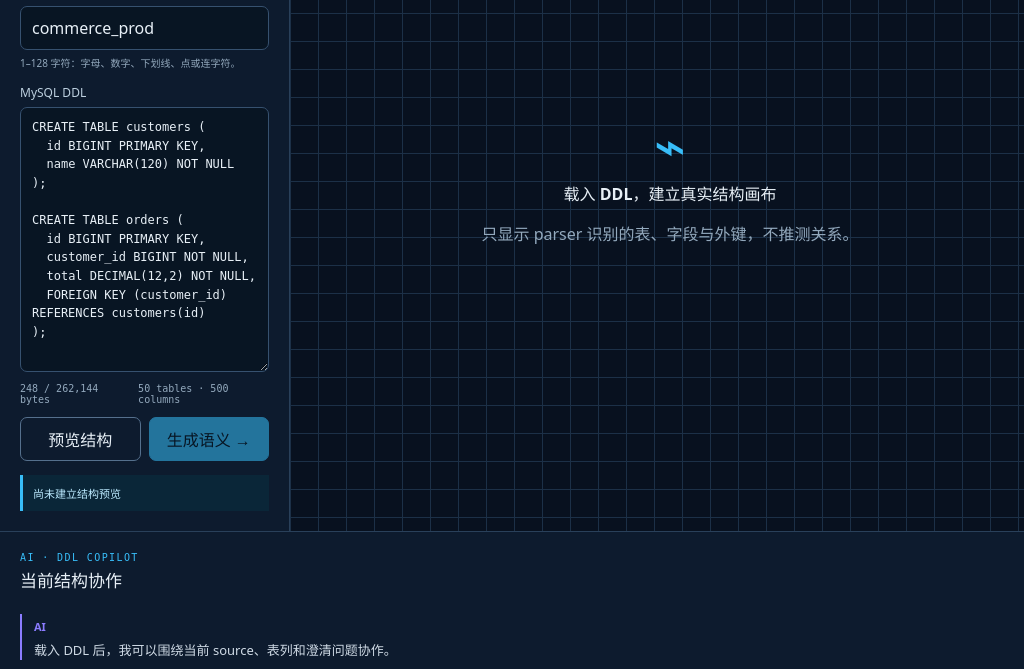
it: workbench chat › does not manually replay an uncertain legacy submission (legacy_submission_timeout)
Click the button "预览结构".
click(80, 439)  # box [20,417,140,461]
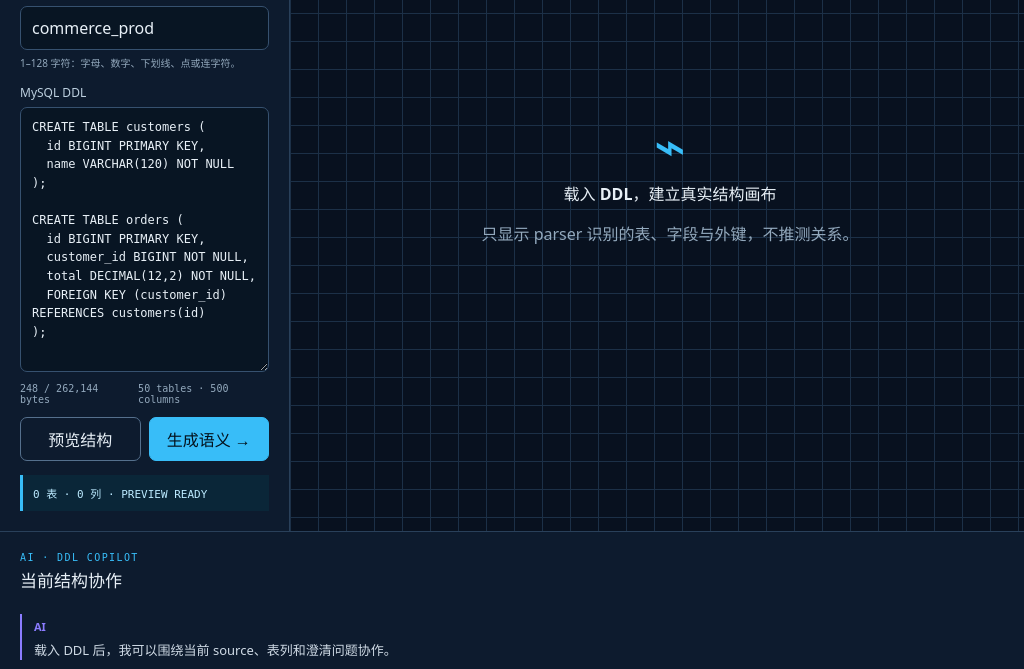
Now the button "生成语义 →" is enabled
Click the button "生成语义 →".
click(209, 439)  # box [148,417,269,461]
(page scrolled)
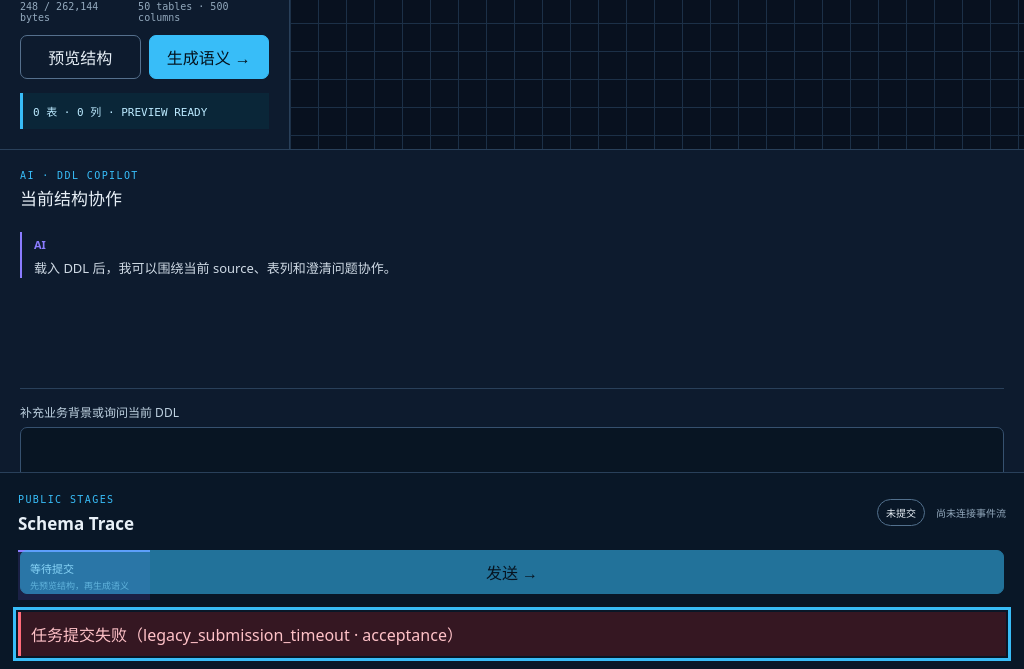
Now the text "任务提交失败（legacy_submission_timeout · acceptance）" is shown, box [18,612,1006,656]
Click the button "生成语义 →".
click(209, 57)  # box [148,35,269,79]
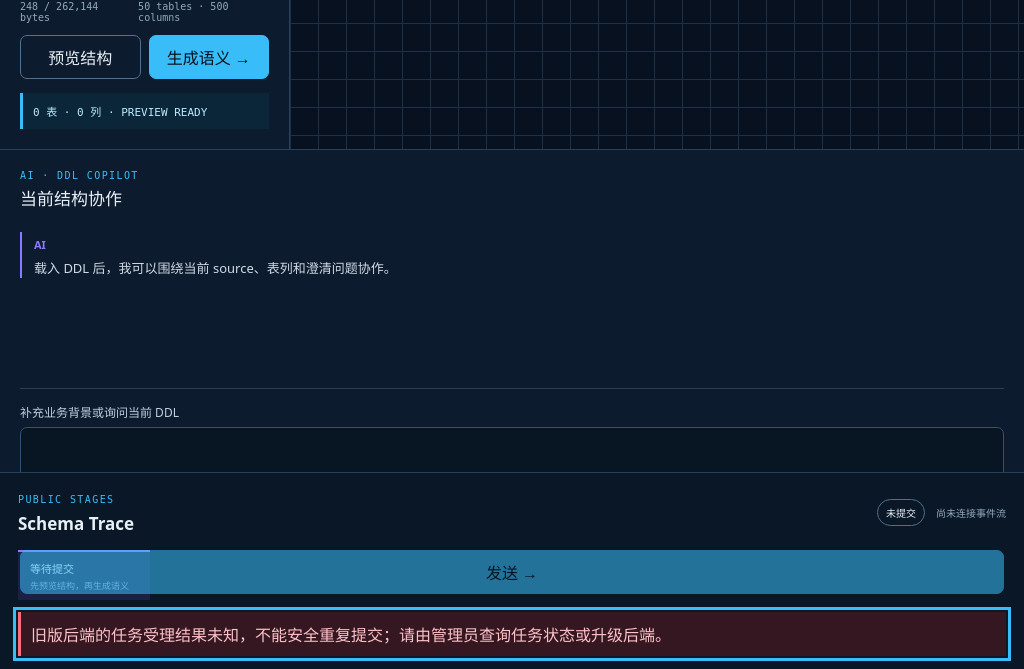
Now the message shows "旧版后端的任务受理结果未知", box [31,624,671,646]
